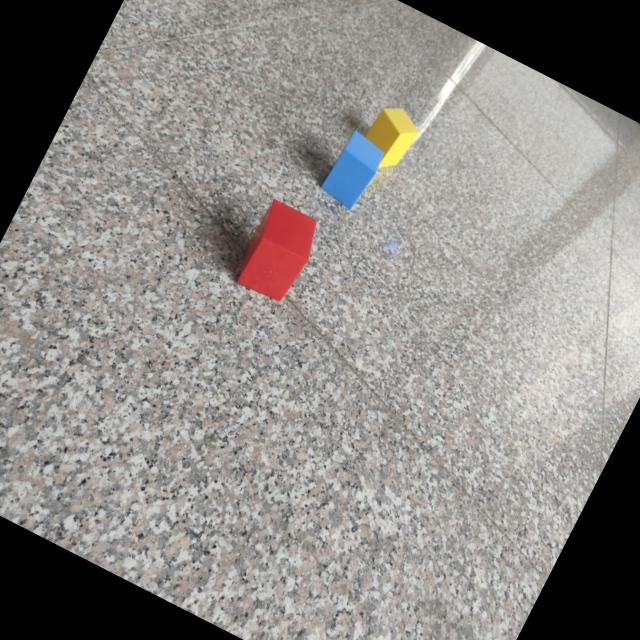blue: (313, 130, 384, 213)
red: (234, 201, 317, 304)
yellow: (365, 103, 423, 174)
